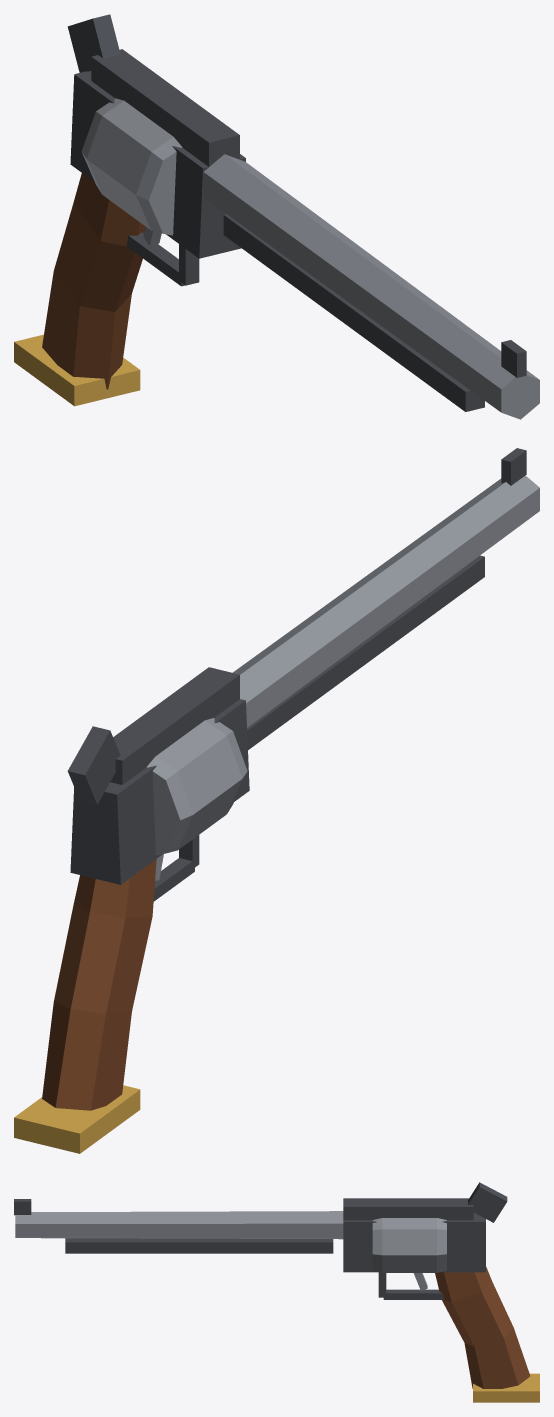
The model's file is SM_Revolver_Long.fbx.
3 renders of one model, top to bottom at view 1: azimuth 30°, elevation 25°; view 2: azimuth 150°, elevation 25°; view 3: azimuth 270°, elevation 25°, orthographic. The views are drawn at different scales.
Parts seen in each view (by area): view 1: Prop_Revolver_Long; view 2: Prop_Revolver_Long; view 3: Prop_Revolver_Long.
Part boxes in pixels (x1,y1,x2,y2): Prop_Revolver_Long: [14, 14, 539, 419]; Prop_Revolver_Long: [14, 448, 539, 1153]; Prop_Revolver_Long: [14, 1182, 539, 1402].
Bounding box in the file's own units: 6.88 × 53 × 23.25.
